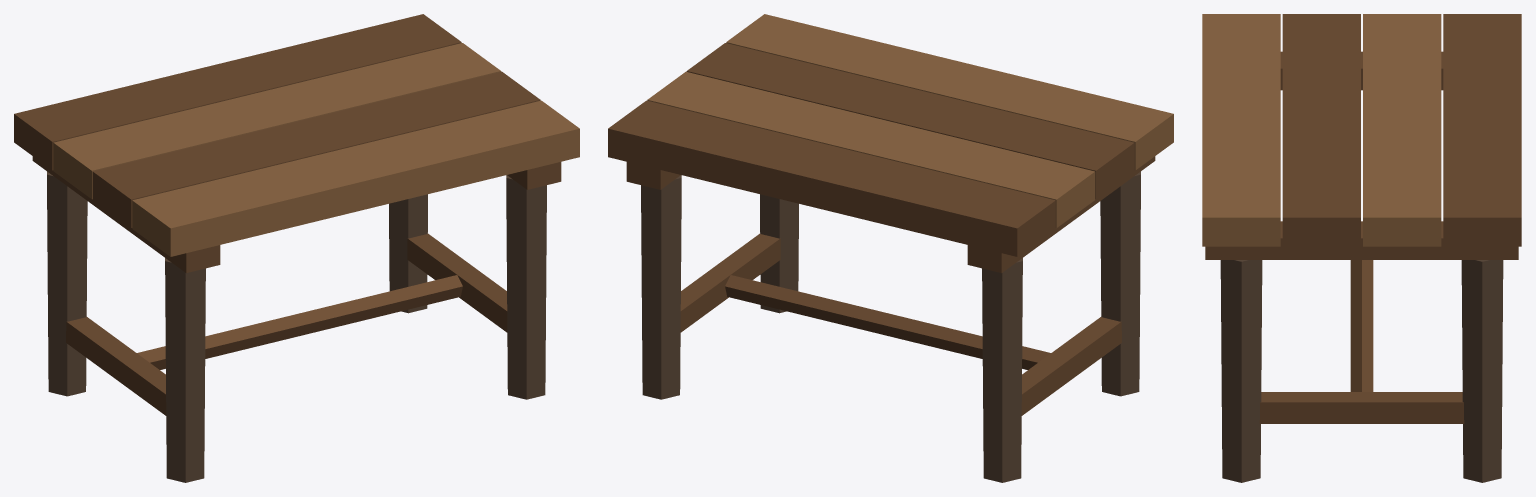
File: table.glb
3 renders of one model, left to right at view 1: azimuth 30°, elevation 25°; view 2: azimuth 150°, elevation 25°; view 3: azimuth 270°, elevation 25°, orthographic.
Parts seen in each view (by area): view 1: table; view 2: table; view 3: table.
Part boxes in pixels (bbox=[...]): table: bbox=[14, 14, 579, 482]; table: bbox=[608, 14, 1173, 482]; table: bbox=[1202, 14, 1521, 482].
Size of the model in its own units: 1.2 by 0.75 by 0.795.
